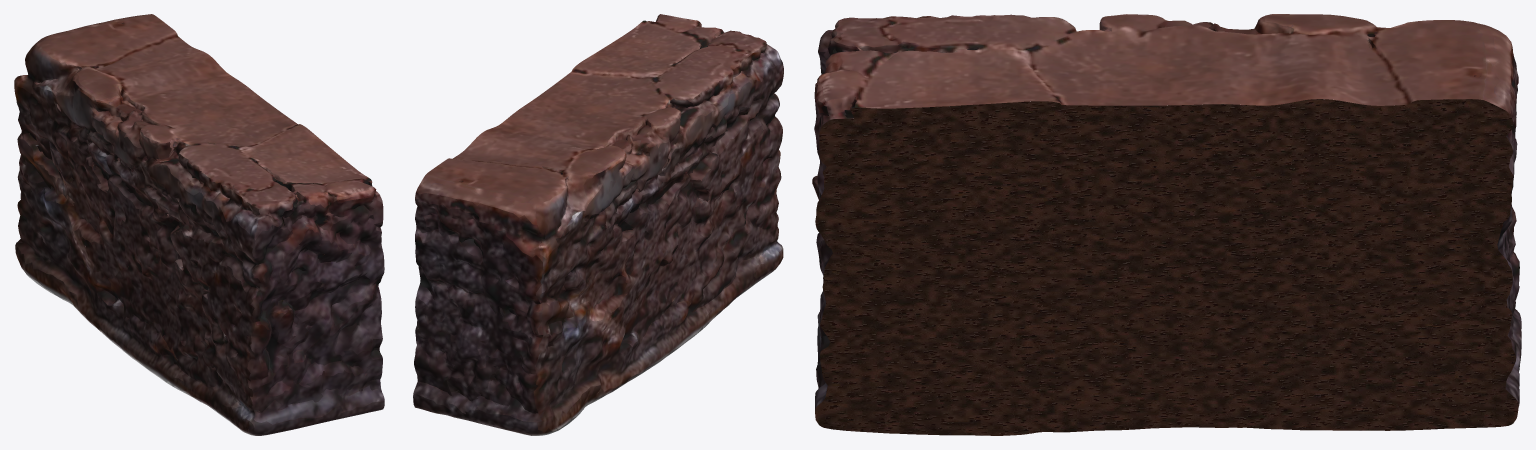
Rendered from chocolate-brownie-3.glb.
3 renders of one model, left to right at view 1: azimuth 30°, elevation 25°; view 2: azimuth 150°, elevation 25°; view 3: azimuth 270°, elevation 25°, orthographic. The views are drawn at different scales.
Visible parts, largest first — view 1: brownie-physical-calibration-80x35x65mm; view 2: brownie-physical-calibration-80x35x65mm; view 3: brownie-physical-calibration-80x35x65mm.
Part boxes in pixels (x1,y1,x2,y2): brownie-physical-calibration-80x35x65mm: (14,14,384,435); brownie-physical-calibration-80x35x65mm: (413,14,783,435); brownie-physical-calibration-80x35x65mm: (812,14,1521,435).
Size of the model in its own units: 0.02 by 0.0346 by 0.0648.
2 materials, 2 textured.
